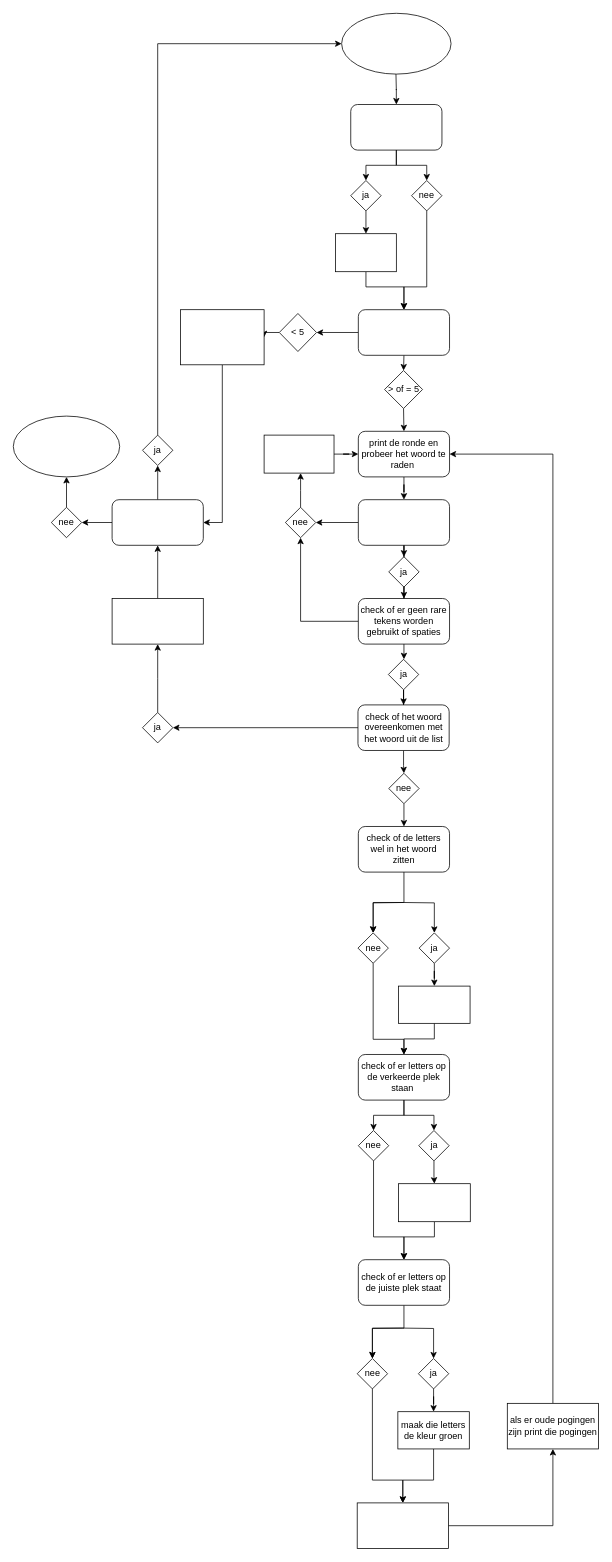
Some shapes in this 612 by 1562 pixel diagram are drawn without their labels. The shapes that lost their labels are listed below. From the top down, each one's centre as x and y in pixels, then its label:
At [396,43]: "er wordt een willekeirig woord uit de gegeven worden lijst gehaald".
At [396,127]: "checken of het de eerste ronde is".
At [365,252]: "print de uitleg van het spel werkt".
At [222,337]: "print(u heeft het woord niet kunnen raden en print het woord juiste woord)".
At [404,332]: "check of het aantal rondes".
At [66,446]: "print(bedankt voor het spelen) quit".
At [298,453]: "print sorry dat snap ik niet".
At [157,522]: "wil je opnieuw spelen ja/nee".
At [404,522]: "check of het woord uit 5 tekens bestaat".
At [157,621]: "print(je hebt het woordt geraden)".
At [434,1004]: "maak die letters de kleur rood".
At [434,1202]: "maak die letters de kleur geel".
At [402,1525]: "print de letters opnieuw met de juiste kleuren bij de letters".
